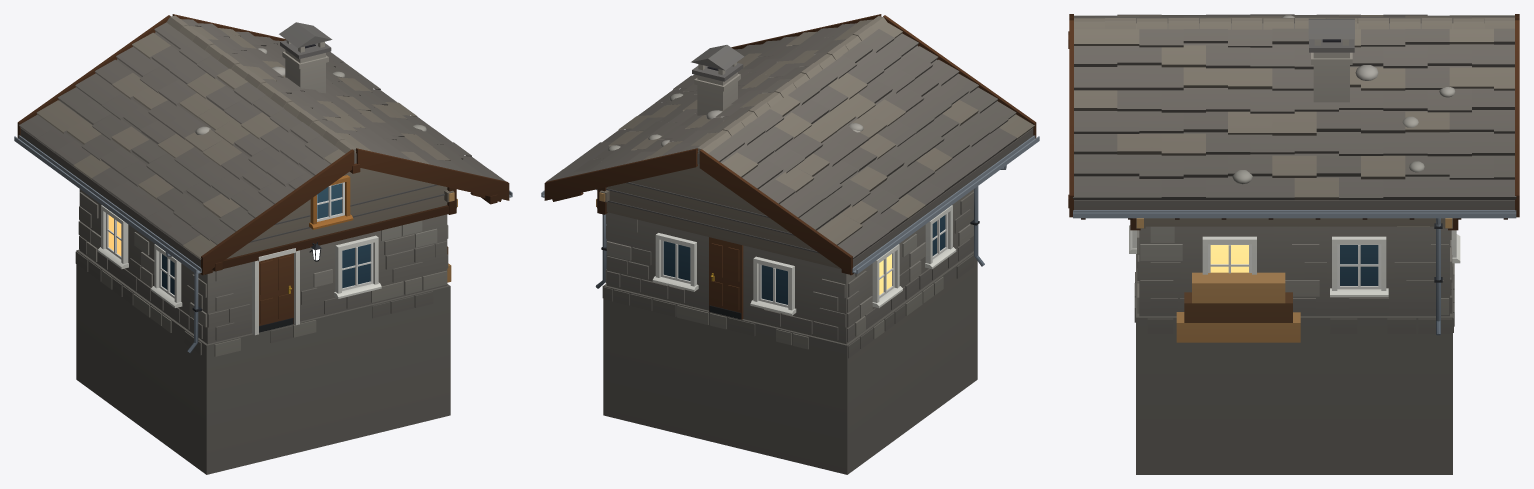
Rendered from Chalet_F.fbx.
3 views of the same model, side by side, from view 1: azimuth 30°, elevation 25°; view 2: azimuth 150°, elevation 25°; view 3: azimuth 270°, elevation 25° (orthographic). The views are drawn at different scales.
Parts seen in each view (by area): view 1: Chalet_F_LOD0; view 2: Chalet_F_LOD0; view 3: Chalet_F_LOD0.
Part boxes in pixels (box(x1,y1,x2,y2)): Chalet_F_LOD0: box(14, 14, 512, 474); Chalet_F_LOD0: box(541, 14, 1039, 474); Chalet_F_LOD0: box(1068, 14, 1519, 474).
Size of what is drawn, in the model's own units: 8.58 by 8.89 by 8.72.
Materials: 1 (1 with a texture image).
